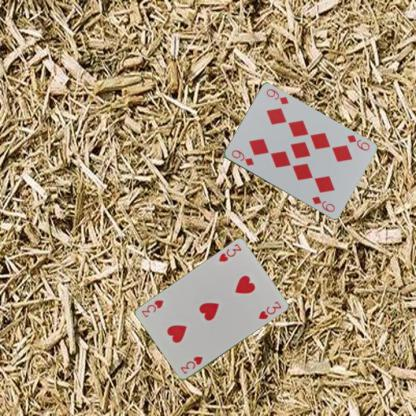3h: (177, 354, 204, 376), (216, 241, 243, 263)
9d: (344, 132, 371, 152), (229, 147, 255, 167)
